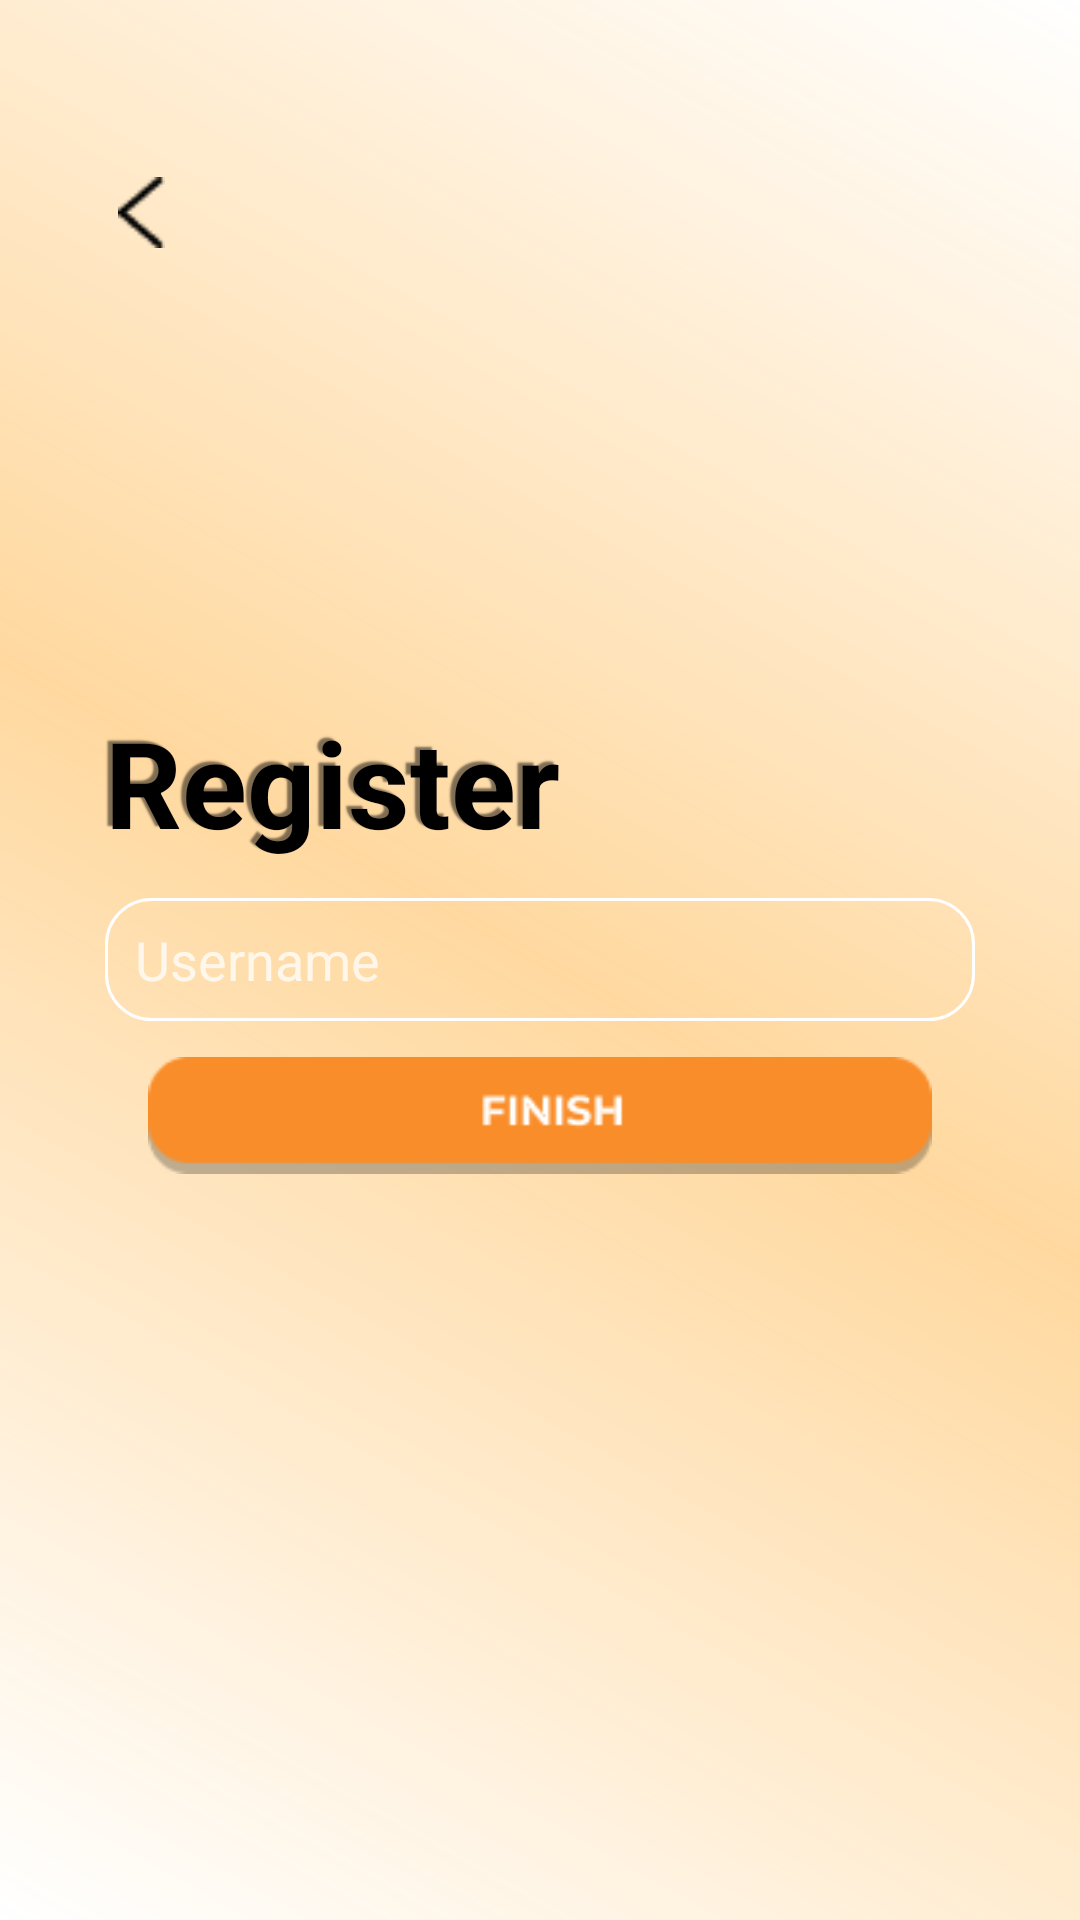

Locate icon controls on the screen. Image size 1080×1920, boxes as (x1, y1, x2, y2).
back: (118, 177, 165, 248)
